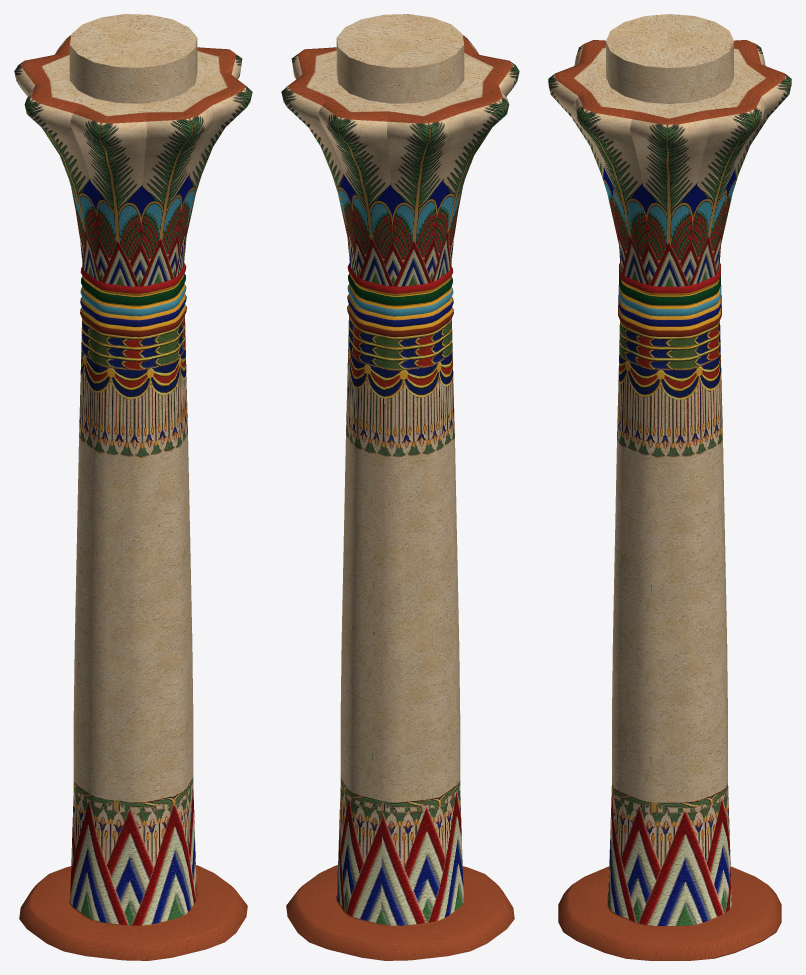
File: column 2.FBX
3 views of the same model, side by side, from view 1: azimuth 30°, elevation 25°; view 2: azimuth 150°, elevation 25°; view 3: azimuth 270°, elevation 25° (orthographic).
Visible parts, largest first — view 1: column 2; view 2: column 2; view 3: column 2.
Boxes of the visible parts, x1,y1,x2,y2 form: column 2: (14,14,252,960); column 2: (281,14,519,960); column 2: (548,14,791,960).
Size of the model in its own units: 1373 by 5441 by 1373.
Materials: 1 (1 with a texture image).
